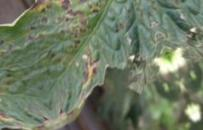Tomato Septoria leaf spot: (0, 0, 179, 130)
